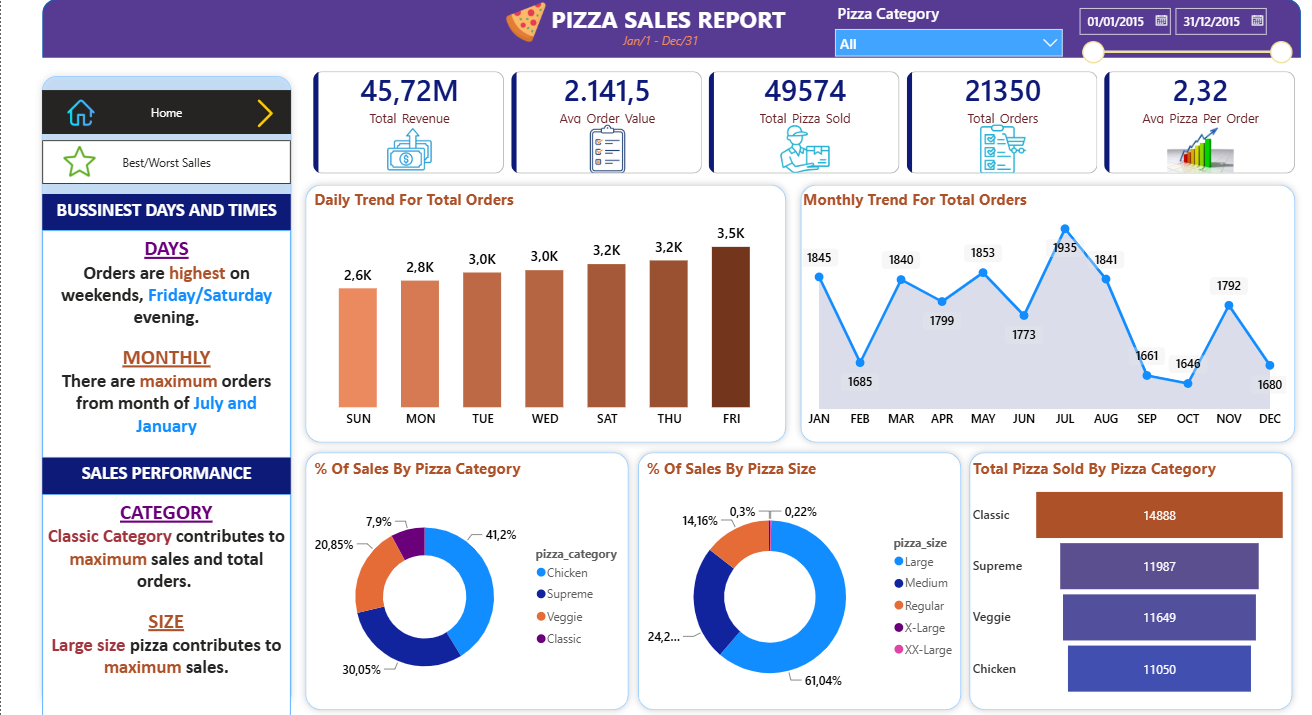

What the dashboard file says about the page in this screenshot:
{"tool":"powerbi","page":{"name":"Home","canvas":[1500,820],"ordinal":0},"visuals":[{"type":"cardVisual","fields":{"Data":["pizza_sales.Total_Revenue","pizza_sales.Avg_Order_Value","pizza_sales.Total_Pizza_Sold","pizza_sales.Total_Orders","pizza_sales.Avg_Pizza_Per_Order"]},"box":[340,65.7,1160,151.4],"z":0},{"type":"shape","box":[38.6,80,301.4,740],"z":1000},{"type":"shape","box":[47.1,0,1438.6,67.1],"z":2000},{"type":"textbox","box":[620,0,285.7,50],"z":3000},{"type":"textbox","box":[705.7,32.9,114.3,34.3],"z":4000},{"type":"image","box":[564.3,2.9,71.4,47.1],"z":5000},{"type":"shape","box":[340,204,565.3,310.7],"z":6000},{"type":"columnChart","title":"Daily Trend For Total Orders","fields":{"Category":["pizza_sales.Order_Day"],"Y":["pizza_sales.Total_Orders"]},"box":[353.3,217.3,538.7,282.7],"z":7000},{"type":"shape","box":[905.3,204,581.3,310.7],"z":8000},{"type":"areaChart","title":"Monthly Trend For Total Orders","fields":{"Category":["pizza_sales.Order Month"],"Y":["pizza_sales.Total_Orders"]},"box":[912,217.3,562.7,282.7],"z":9000},{"type":"shape","box":[340,509.3,385.3,310.7],"z":10000},{"type":"shape","box":[720,509.3,385.3,310.7],"z":11000},{"type":"shape","box":[1098.7,509.3,385.3,310.7],"z":12000},{"type":"donutChart","title":"% Of Sales By Pizza Category","fields":{"Category":["pizza_sales.pizza_category"],"Y":["pizza_sales.Total_Revenue"]},"box":[353.3,524,372,296],"z":13000},{"type":"donutChart","title":"% Of Sales By Pizza Size","fields":{"Y":["pizza_sales.Total_Revenue"],"Category":["pizza_sales.pizza_size"]},"box":[733.3,524,372,296],"z":14000},{"type":"funnel","title":"Total Pizza Sold By Pizza Category","fields":{"Category":["pizza_sales.pizza_category"],"Y":["pizza_sales.Total_Pizza_Sold"]},"box":[1105.3,524,369.3,282.7],"z":15000},{"type":"textbox","box":[47.1,222.9,284.3,41.4],"z":16000},{"type":"textbox","box":[47.1,264.3,284.3,260],"z":17000},{"type":"textbox","box":[47.5,566.2,283.8,253.8],"z":18000},{"type":"textbox","box":[47.1,524.3,284.3,41.4],"z":19000},{"type":"slicer","fields":{"Values":["pizza_sales.pizza_category"]},"box":[942.9,0,280,65.7],"z":20000},{"type":"slicer","fields":{"Values":["pizza_sales.order_date"]},"box":[1220,0,264.3,80],"z":21000},{"type":"pageNavigator","box":[47.1,104.3,284.3,50],"z":22000},{"type":"pageNavigator","box":[47.1,161.4,284.3,50],"z":23000},{"type":"image","box":[272.9,114.3,58.6,32.9],"z":24000},{"type":"image","box":[61.4,114.3,60,31.4],"z":25000},{"type":"image","box":[58.6,167.1,62.9,37.1],"z":26000}]}

Visuals, with their boxes in screenshot pixels (x1, y1, x2, y2), scaled from the page's 1500x820 canvas onto the 1312x715 screenshot:
cardVisual - pizza_sales.Total_Revenue x pizza_sales.Avg_Order_Value: x1=297, y1=57, x2=1311, y2=189
shape: x1=34, y1=70, x2=297, y2=714
shape: x1=41, y1=0, x2=1299, y2=59
textbox: x1=542, y1=0, x2=792, y2=44
textbox: x1=617, y1=29, x2=717, y2=59
image: x1=494, y1=3, x2=556, y2=44
shape: x1=297, y1=178, x2=792, y2=449
"Daily Trend For Total Orders" columnChart: x1=309, y1=189, x2=780, y2=436
shape: x1=792, y1=178, x2=1300, y2=449
"Monthly Trend For Total Orders" areaChart: x1=798, y1=189, x2=1290, y2=436
shape: x1=297, y1=444, x2=634, y2=714
shape: x1=630, y1=444, x2=967, y2=714
shape: x1=961, y1=444, x2=1298, y2=714
"% Of Sales By Pizza Category" donutChart: x1=309, y1=457, x2=634, y2=714
"% Of Sales By Pizza Size" donutChart: x1=641, y1=457, x2=967, y2=714
"Total Pizza Sold By Pizza Category" funnel: x1=967, y1=457, x2=1290, y2=703
textbox: x1=41, y1=194, x2=290, y2=230
textbox: x1=41, y1=230, x2=290, y2=457
textbox: x1=42, y1=494, x2=290, y2=714
textbox: x1=41, y1=457, x2=290, y2=493
slicer - pizza_sales.pizza_category: x1=825, y1=0, x2=1070, y2=57
slicer - pizza_sales.order_date: x1=1067, y1=0, x2=1298, y2=70
pageNavigator: x1=41, y1=91, x2=290, y2=135
pageNavigator: x1=41, y1=141, x2=290, y2=184
image: x1=239, y1=100, x2=290, y2=128
image: x1=54, y1=100, x2=106, y2=127
image: x1=51, y1=146, x2=106, y2=178
